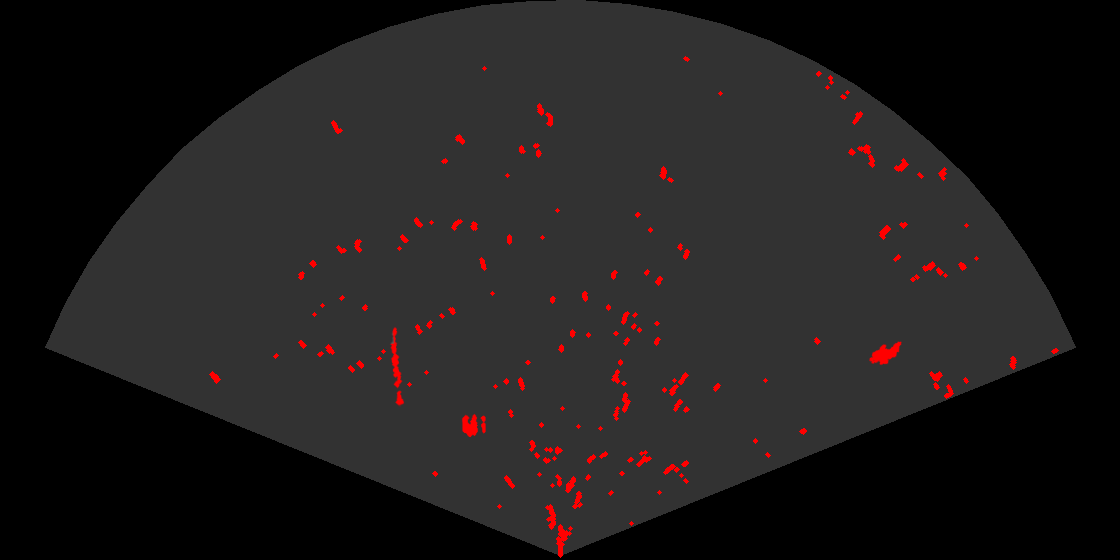AUV: (867, 340, 904, 367)
ball: (460, 412, 487, 439)
chain: (388, 325, 406, 407)
